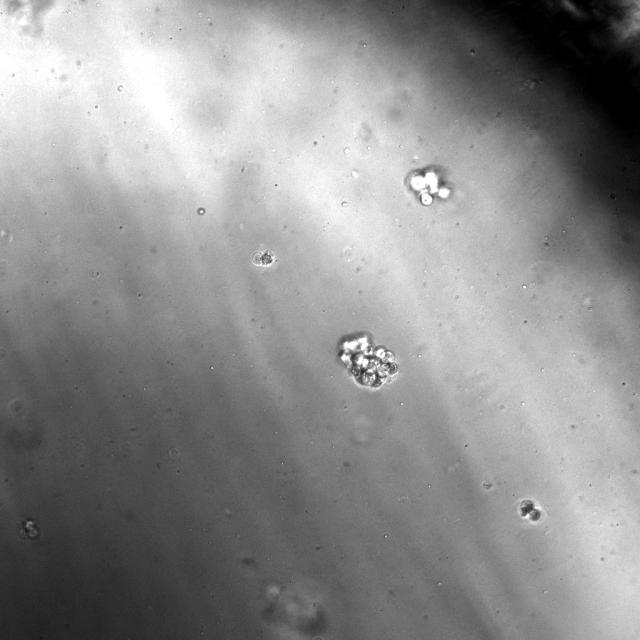organoid: (339, 332, 398, 390), (404, 165, 451, 205), (518, 498, 540, 521), (20, 519, 39, 540), (252, 250, 275, 266)
